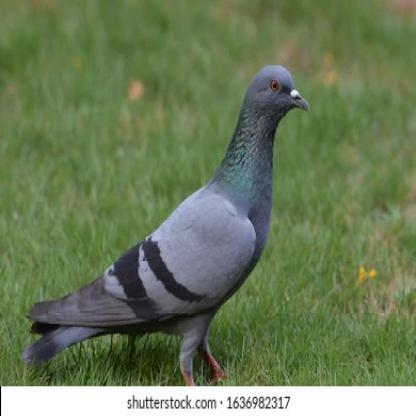Flying Rat: (28, 63, 311, 385)
